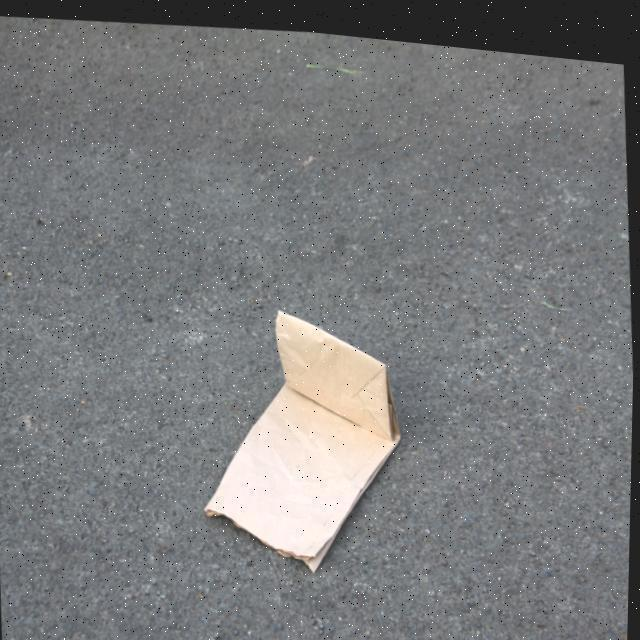Paper_Bag: (194, 290, 413, 581)
